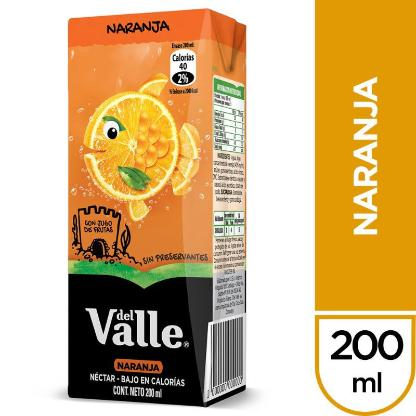Others: (57, 6, 260, 416)
